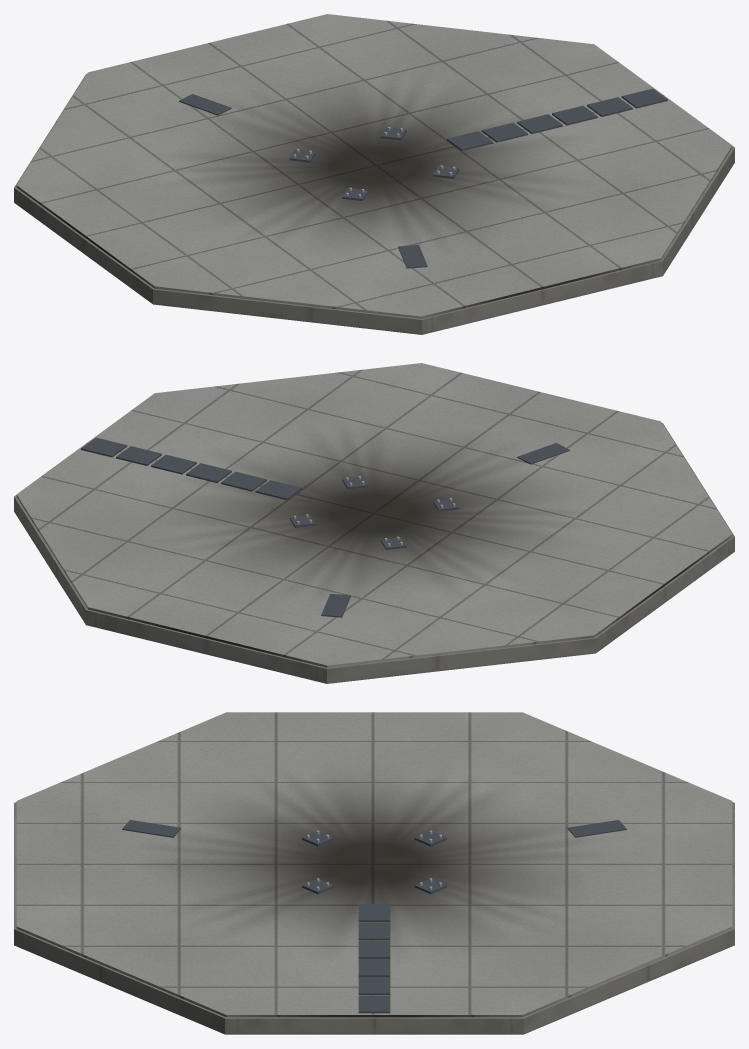
Rendered from slab.glb.
3 renders of one model, top to bottom at view 1: azimuth 30°, elevation 25°; view 2: azimuth 150°, elevation 25°; view 3: azimuth 270°, elevation 25°, orthographic. The views are drawn at different scales.
Visible parts, largest first — view 1: slab; view 2: slab; view 3: slab.
Part boxes in pixels (x1,y1,x2,y2): slab: (14,14,734,334); slab: (14,363,734,683); slab: (14,712,734,1034).
Bounding box in the file's own units: 15.82 × 0.5599 × 15.82.
4 materials, 2 textured.
